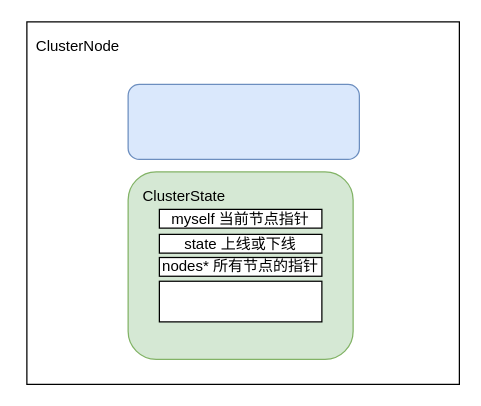
The diagram is 481 pixels wide and 406 high, and some of its shapes have lost their labels. The shapes that lost their labels are listed below. From the top down, each one's centre as x and y in pixels, then its label:
At point 243,121: "char slots[16384/8] 记录当前节点负责的槽".
At point 240,301: "ClusterNode *slots[16384]".
